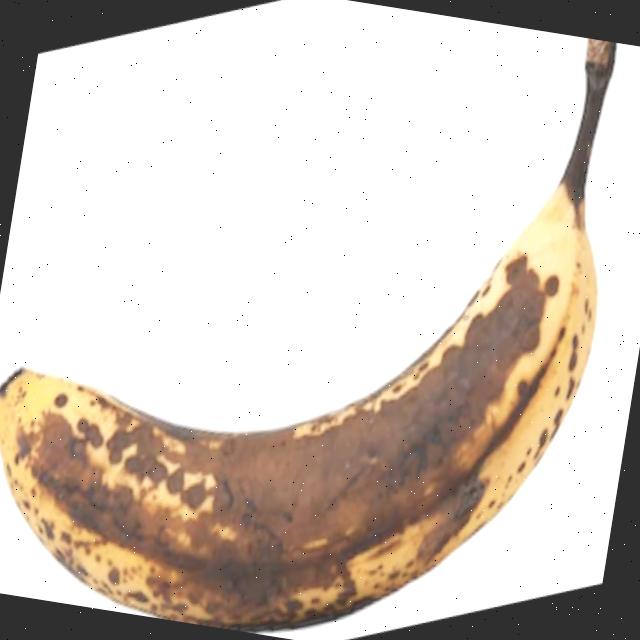rotten banana: (0, 40, 635, 640)
